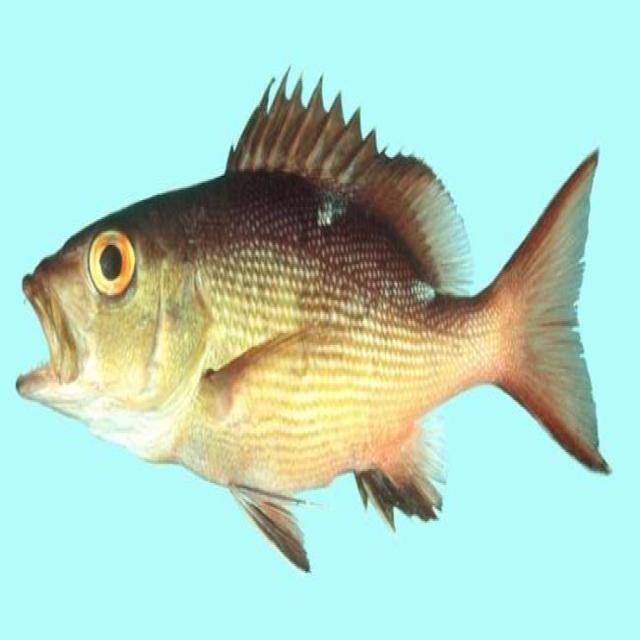ikan: (15, 64, 612, 574)
